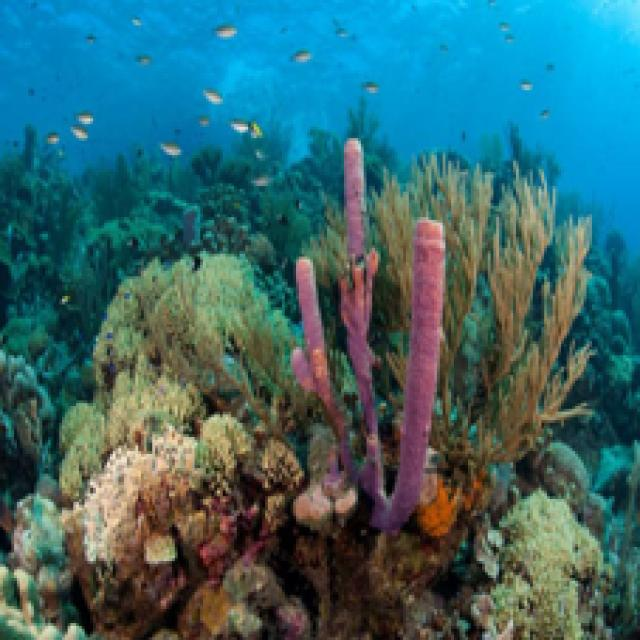Healthy: (63, 255, 294, 616), (291, 139, 441, 531), (410, 156, 590, 472), (472, 489, 602, 638)
